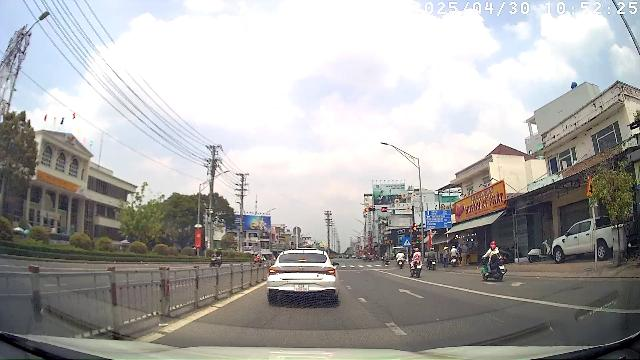423a-duong-nguoi-di-bo-sang-ngang-1: (402, 237, 412, 246)
